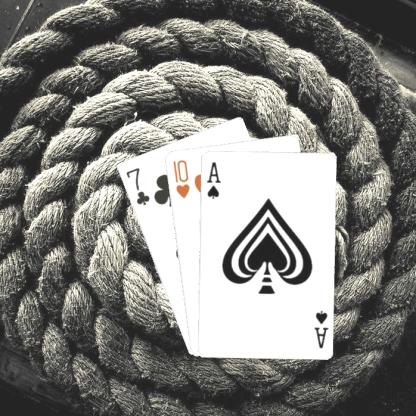10H: (170, 156, 191, 199)
7C: (123, 164, 151, 207)
AS: (203, 158, 222, 200), (312, 307, 330, 349)
